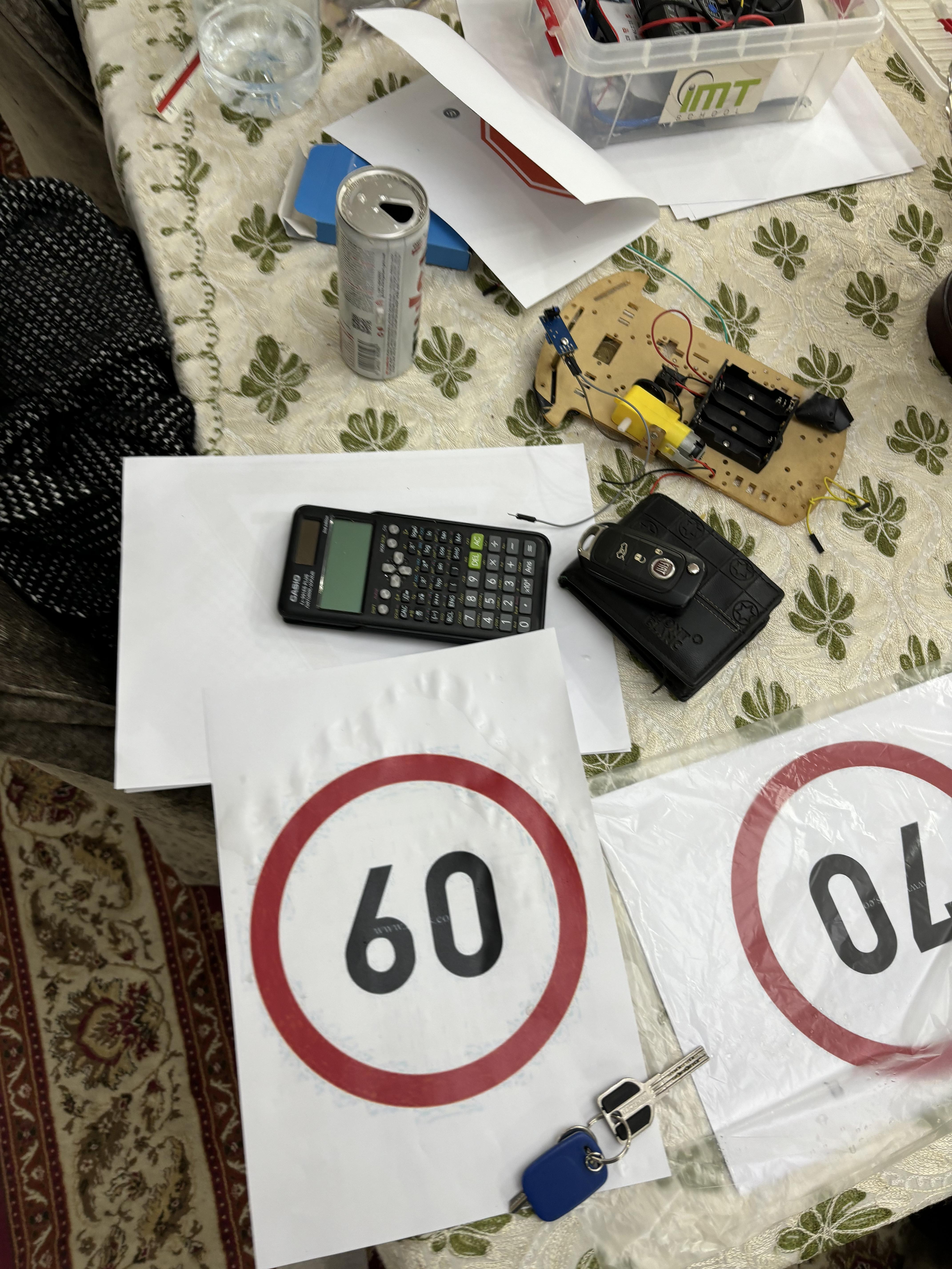60-Speed: (249, 757, 586, 1107)
